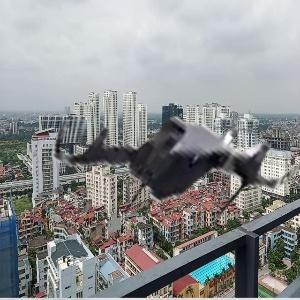drone: (55, 42, 297, 284)
